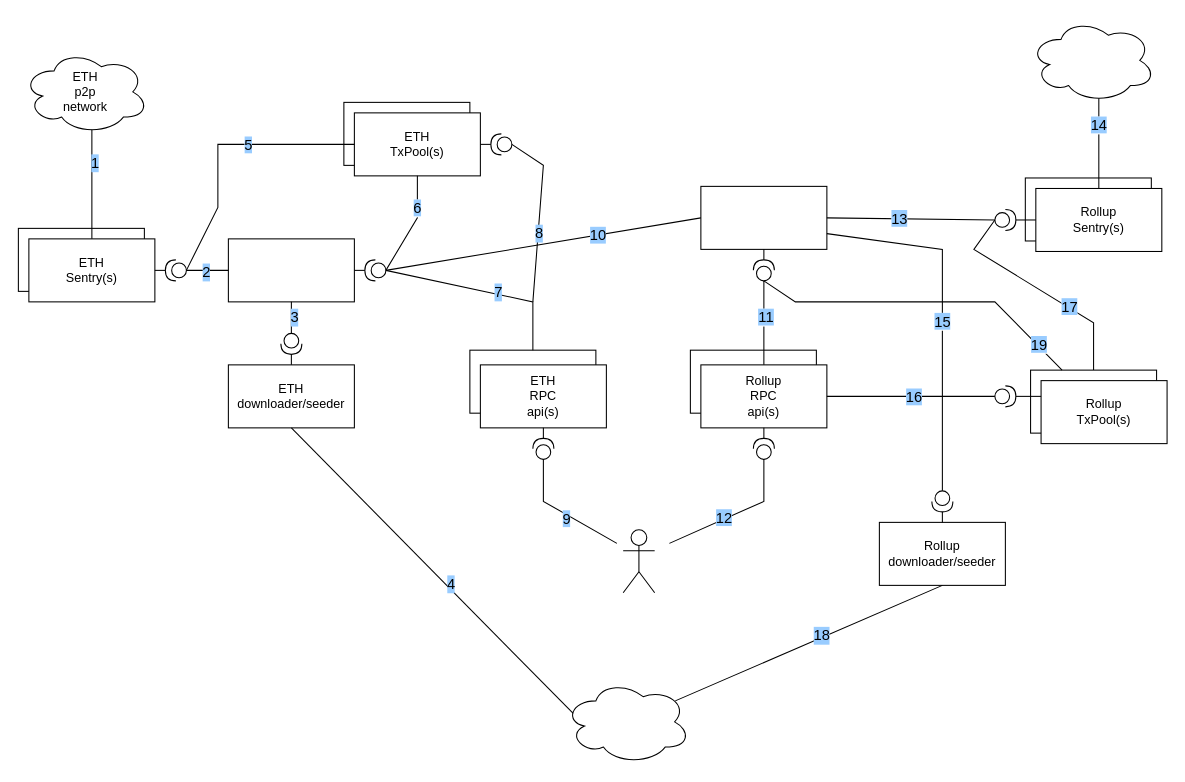
Some shapes in this 1185 by 782 pixel diagram are drawn without their labels. Here are the shapes that lost their labels. From the top down, the centre of each, then its label:
At pixel 1092 59: "Rollup p2p network".
At pixel 763 217: "Rollup Core (non-block producing)".
At pixel 290 270: "ETH Core".
At pixel 626 721: "BitTorrent p2p network".
